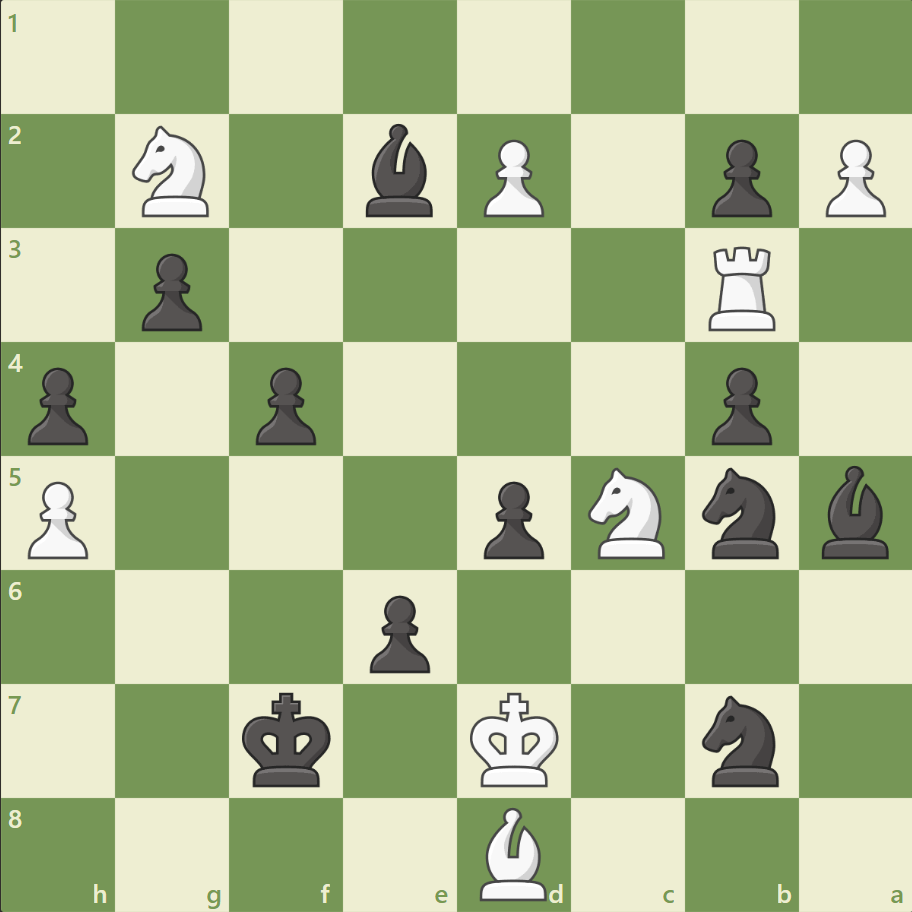B: (471, 801, 555, 904)
K: (465, 685, 565, 793)
N: (124, 121, 222, 223), (579, 461, 676, 564)
P: (20, 473, 95, 564), (474, 132, 549, 223), (815, 132, 889, 223)
R: (700, 239, 783, 336)
b: (812, 460, 896, 563), (358, 120, 442, 222)
k: (238, 685, 338, 793)
n: (692, 688, 789, 791), (692, 461, 789, 564)
p: (474, 473, 549, 564), (701, 359, 776, 450), (247, 359, 322, 450), (20, 359, 95, 450), (133, 246, 208, 337), (701, 132, 776, 223), (361, 586, 435, 677)
